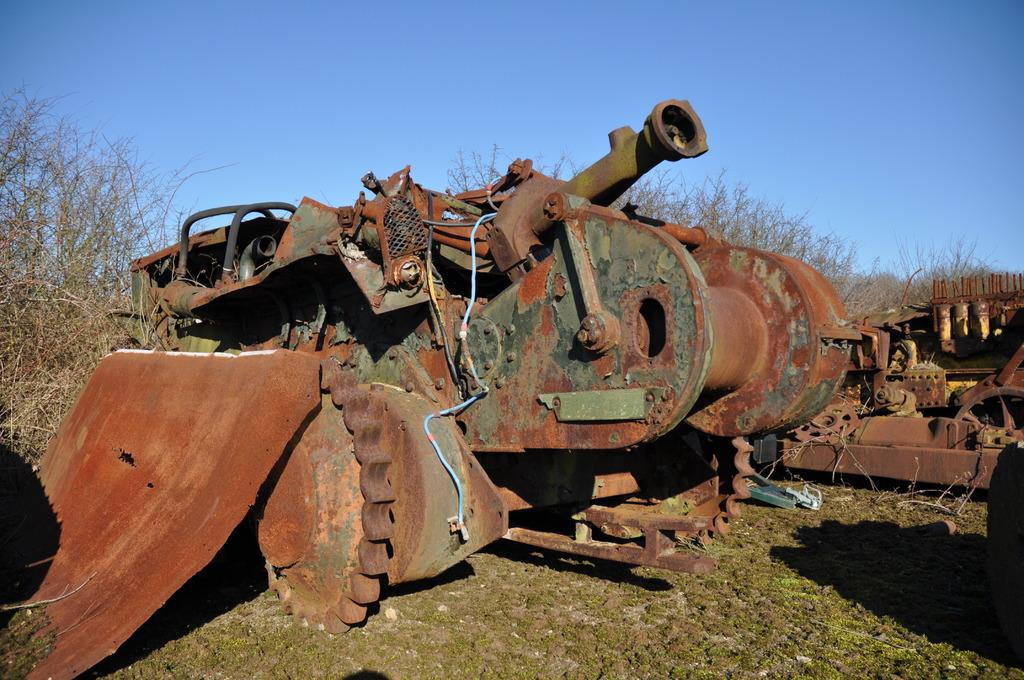Tank: (125, 100, 855, 634)
